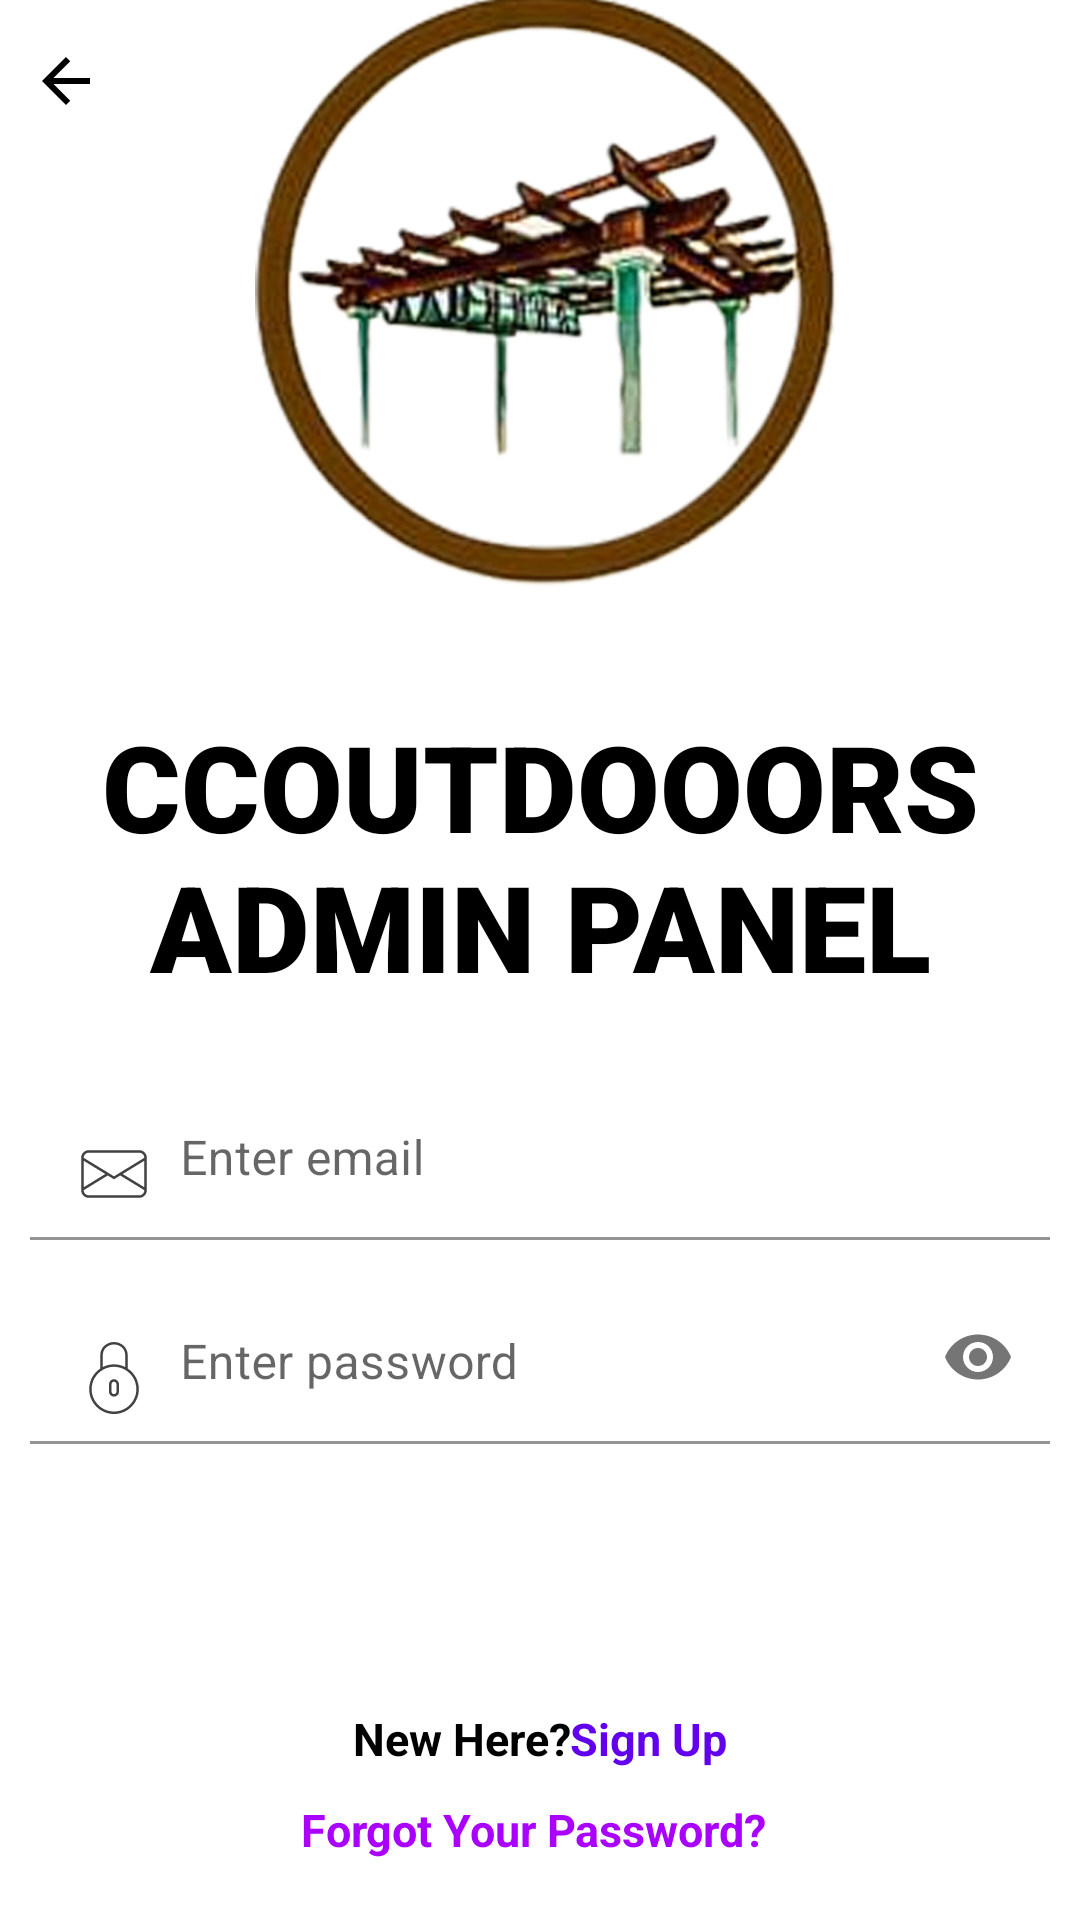

Icon bounding boxes for this 1080w x 1920h phone screenshot, format (x1, y1, x2, y2):
arrow back: (42, 57, 90, 105)
